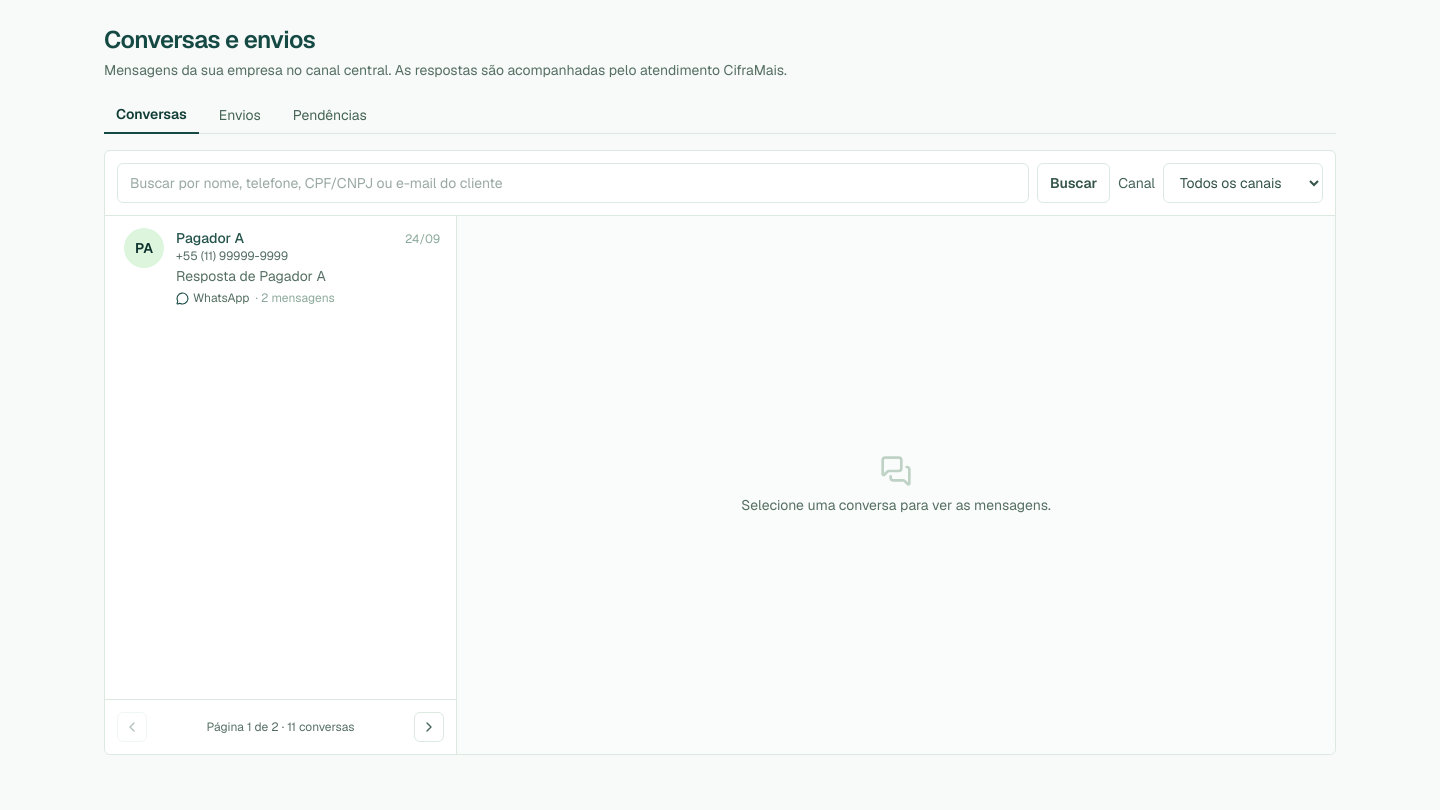
Company conversations (read-only) › searches clients from the first page and says when nothing matches
Click the button named "Próxima".
click(429, 727)  # box [414, 712, 444, 742]
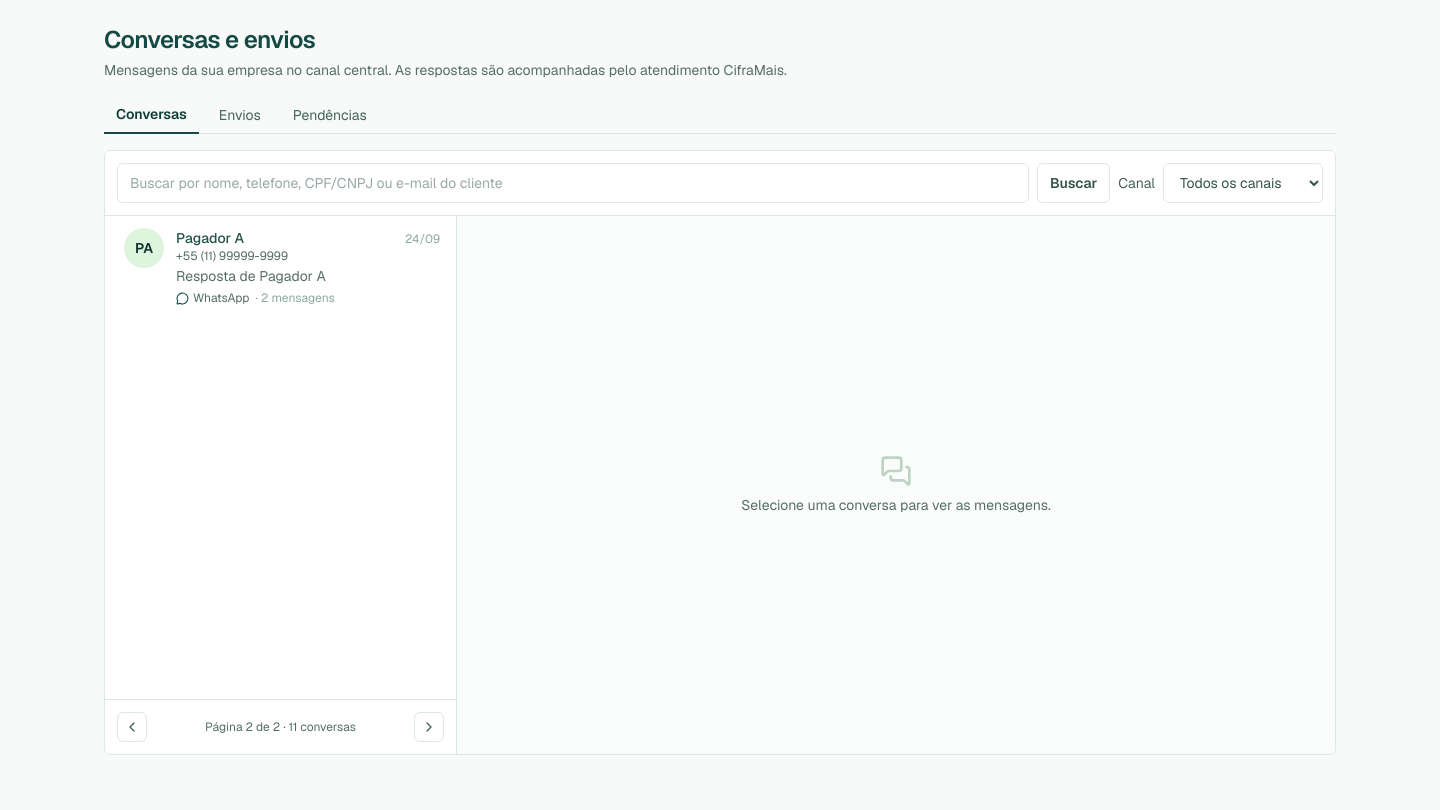
Type "  Maria  " into the search field named "Buscar cliente".
click(573, 183); type("  Maria  ")  # box [117, 163, 1029, 203]
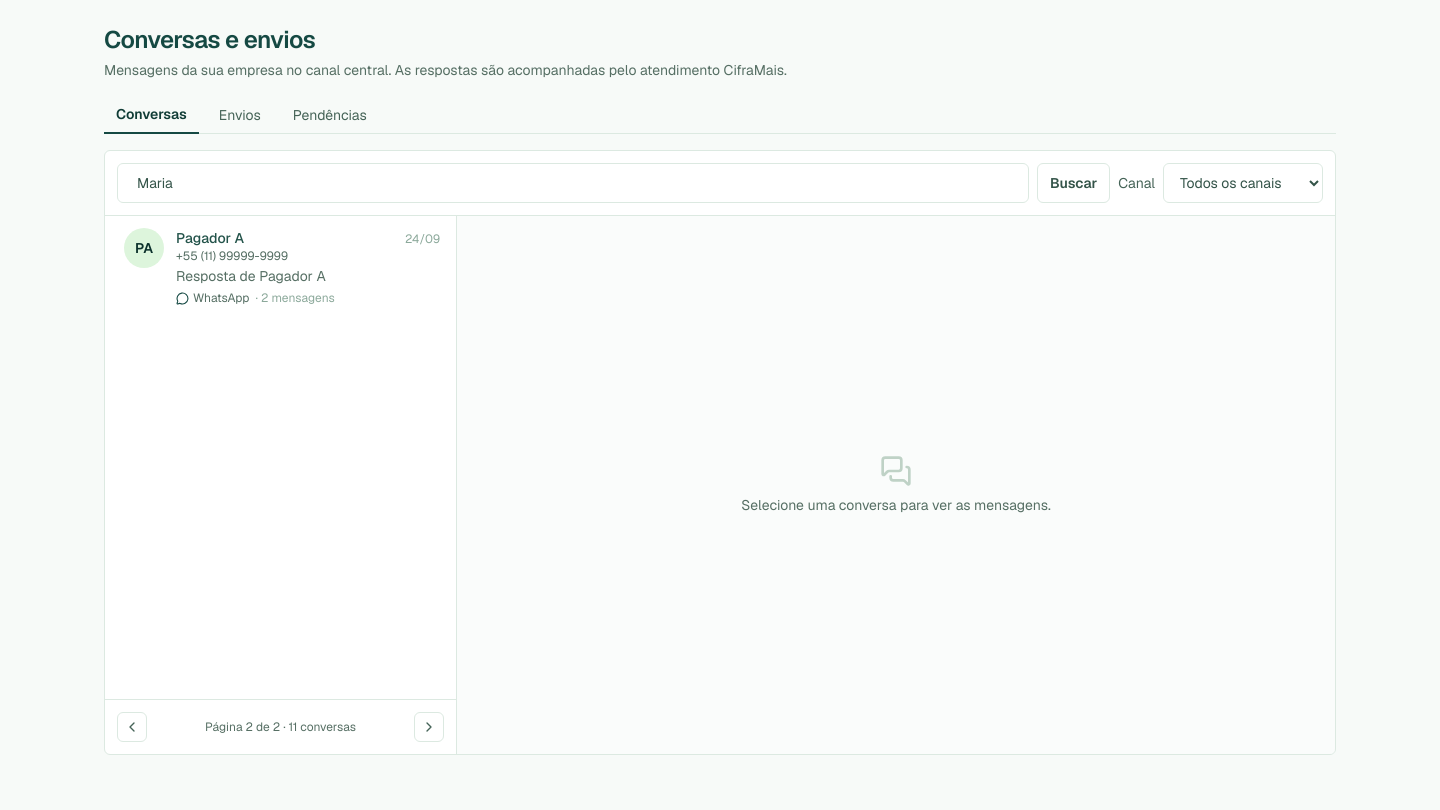
Click the button with aria-label "Buscar cliente".
click(1074, 183)  # box [1037, 163, 1110, 203]
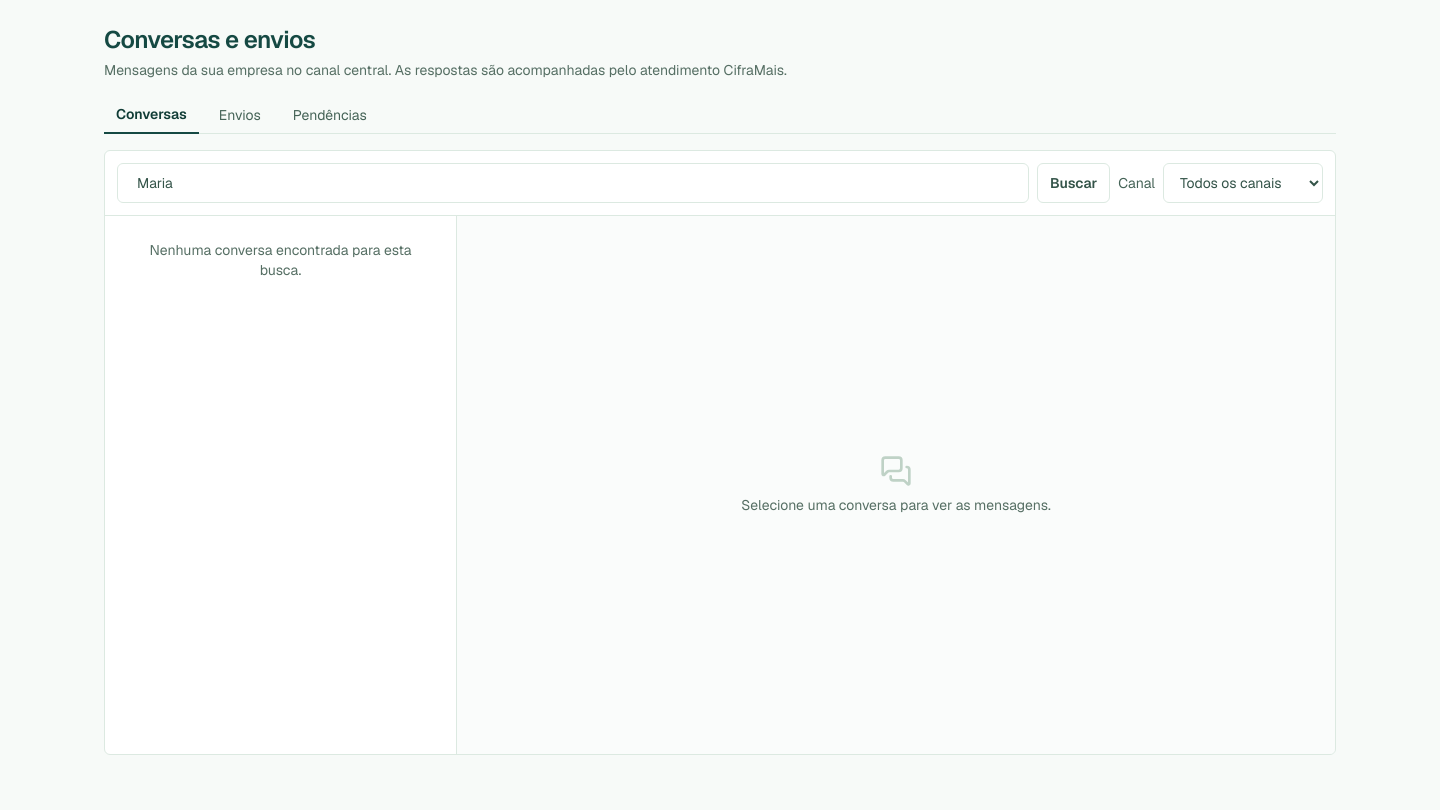
Now the text "Nenhuma conversa encontrada para esta busca." is shown, box [149, 241, 412, 279]
Now the navigation bar "Paginação" is gone
